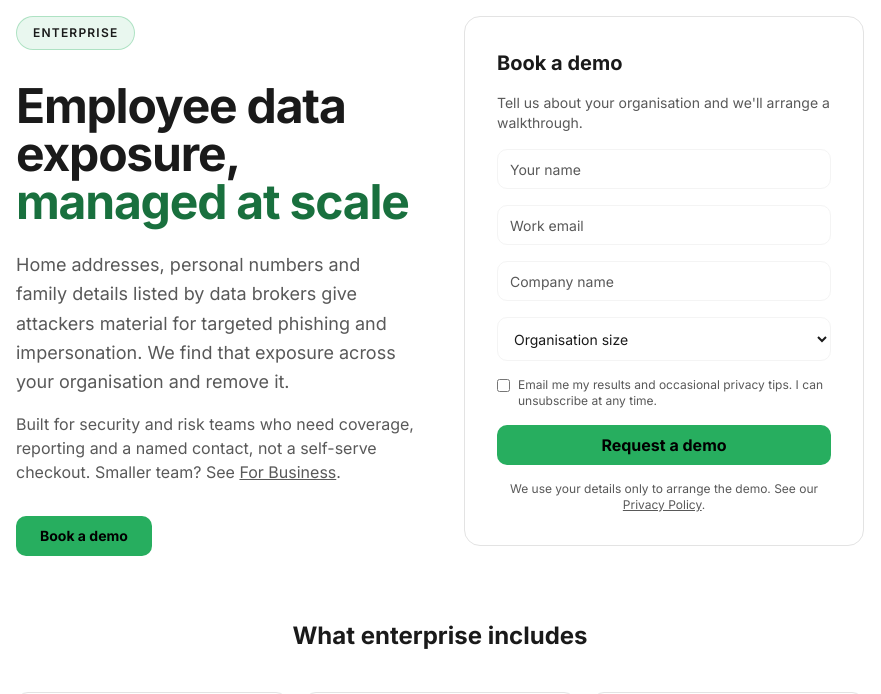
it: Enterprise page › submits with the enterprise-demo source tag and tracks the lead
Type "a@corp.com" into the field with placeholder "Work email" at (664, 225), box 497,205 -> 831,245
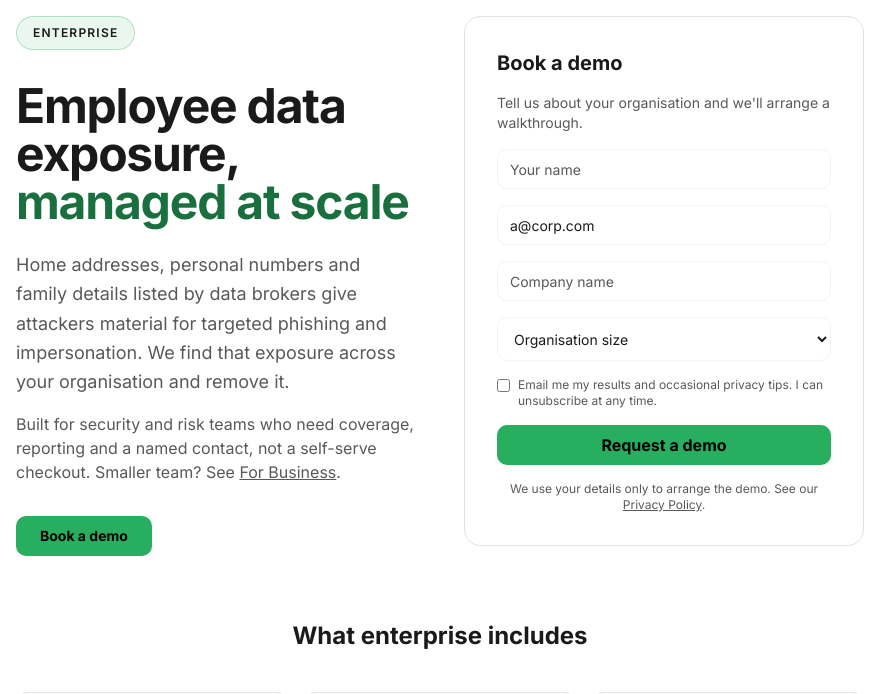
Type "Corp" into the field with placeholder "Company name" at (664, 281), box 497,261 -> 831,301
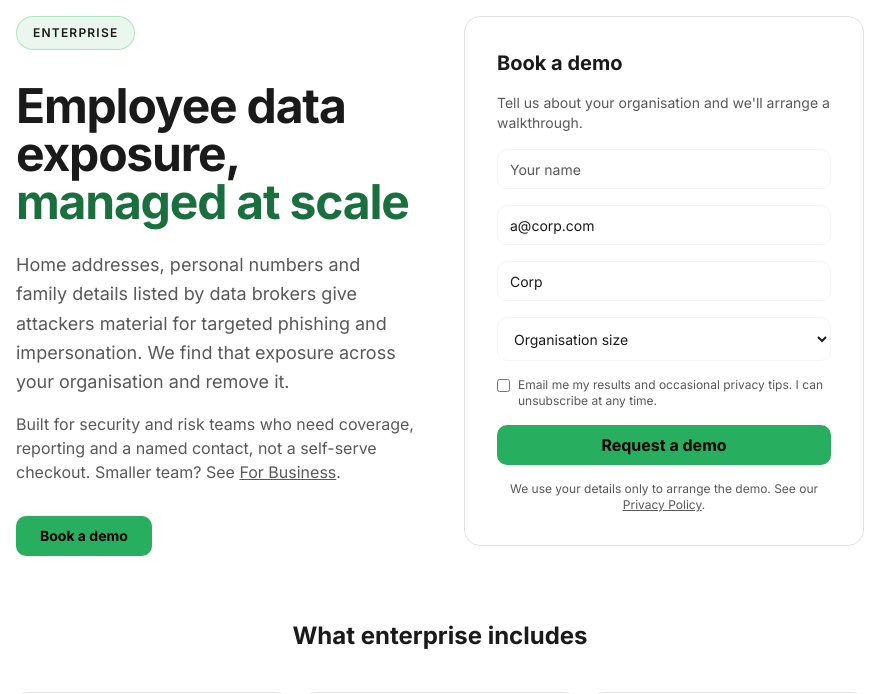
Click the checkbox at (504, 386), box 497,379 -> 510,392
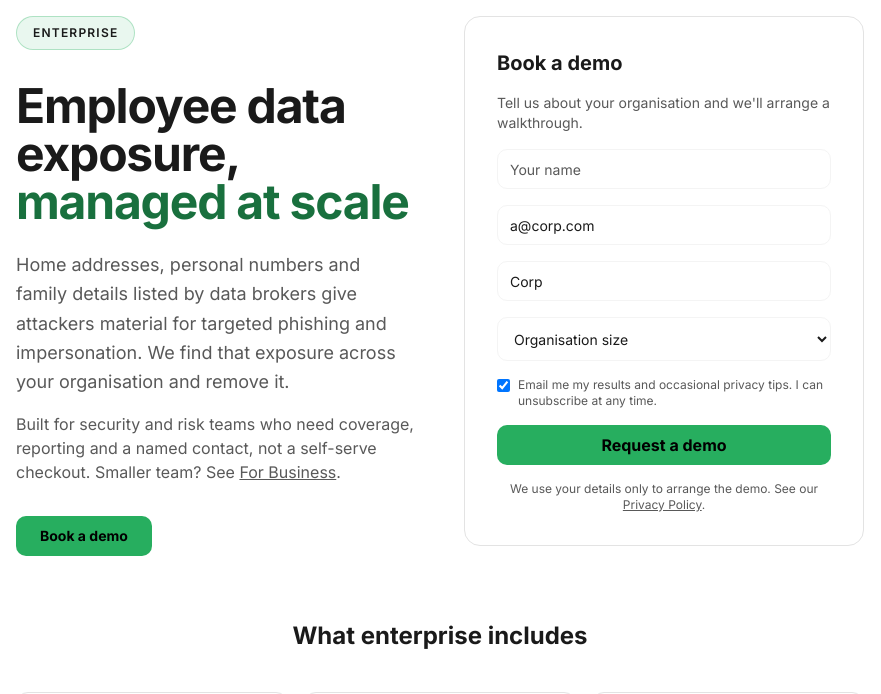
Click the button "Request a demo" at (664, 445), box 497,425 -> 831,465
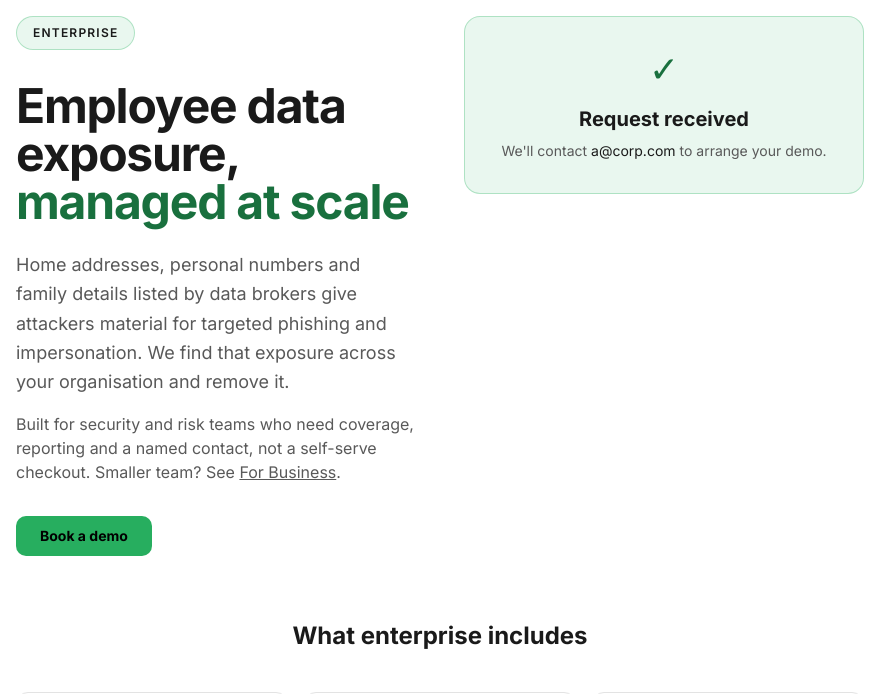
Expected: the heading "Request received" is shown, 579,107 -> 749,131
